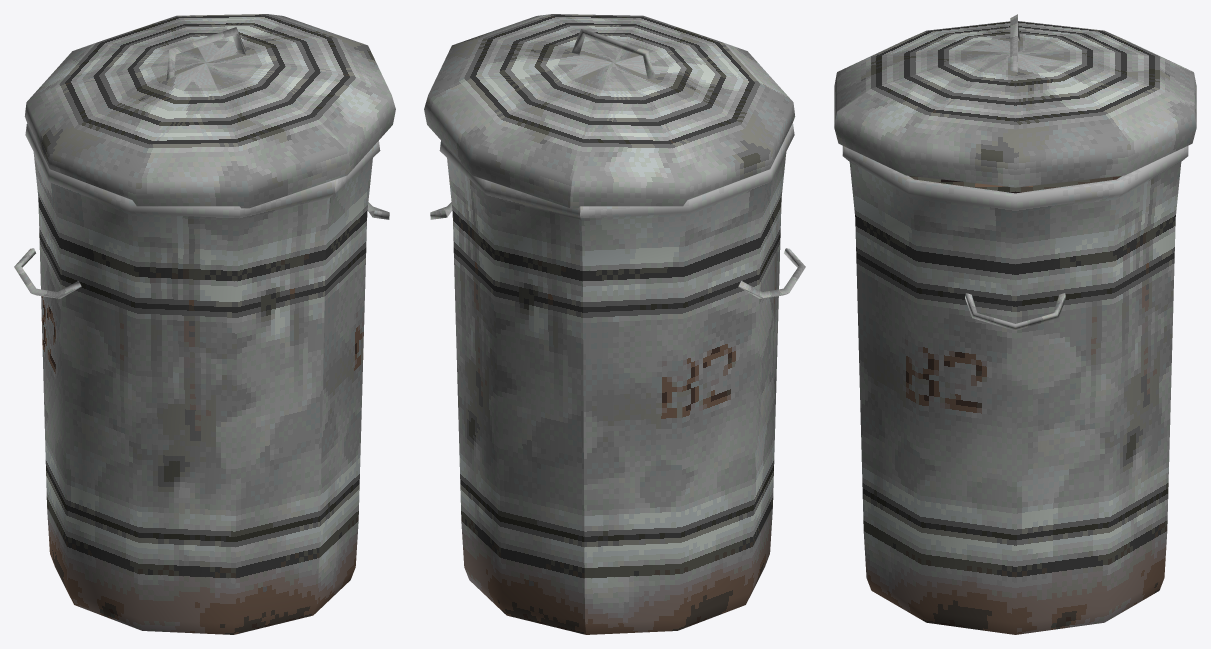
The model's file is trash_can_metal.glb.
3 views of the same model, side by side, from view 1: azimuth 30°, elevation 25°; view 2: azimuth 150°, elevation 25°; view 3: azimuth 270°, elevation 25° (orthographic).
Visible parts, largest first — view 1: trash_can_metal; view 2: trash_can_metal; view 3: trash_can_metal.
Boxes of the visible parts, x1,y1,x2,y2 form: trash_can_metal: (14, 14, 395, 634); trash_can_metal: (424, 14, 805, 634); trash_can_metal: (834, 14, 1196, 634).
Size of the model in its own units: 0.545 by 0.817 by 0.4907.
1 material, 1 textured.
